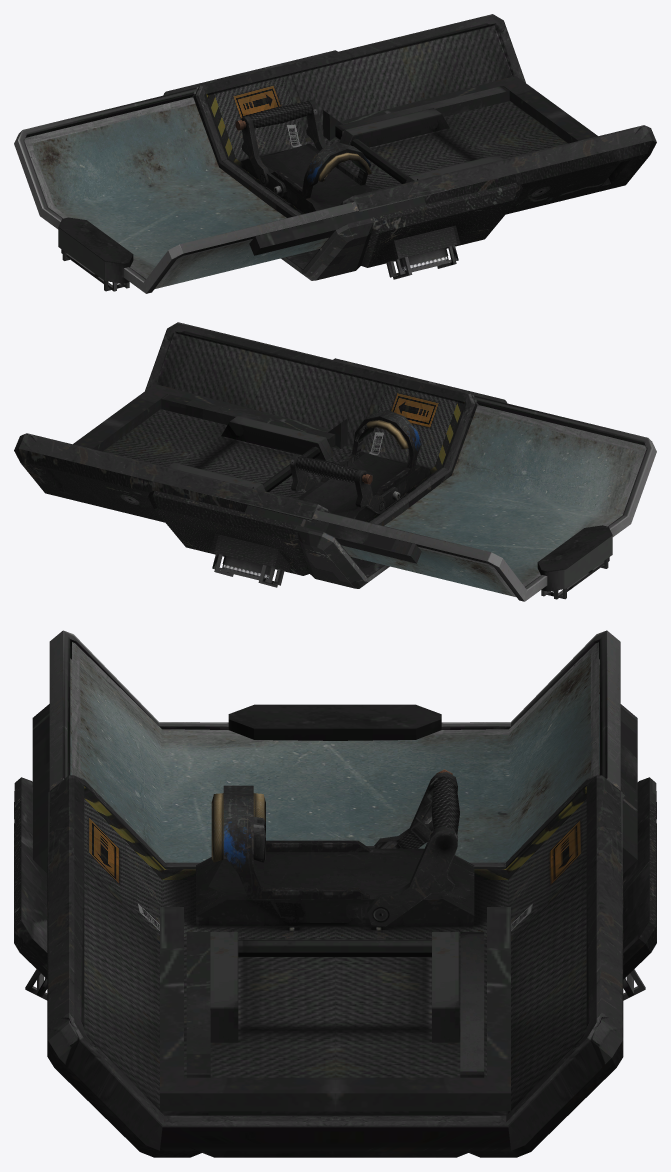
The model's file is t6_wpn_shield_stow_world_LOD0.obj.
3 renders of one model, top to bottom at view 1: azimuth 30°, elevation 25°; view 2: azimuth 150°, elevation 25°; view 3: azimuth 270°, elevation 25°, orthographic. The views are drawn at different scales.
Visible parts, largest first — view 1: mtl_t6_wpn_shield, mtl_t6_wpn_shield_glass, mtl_t6_wpn_shield_camo1, mtl_t6_wpn_shield_camo2, mtl_t6_wpn_shield_camo3, mtl_t6_wpn_shield_nodecal; view 2: mtl_t6_wpn_shield, mtl_t6_wpn_shield_glass, mtl_t6_wpn_shield_camo1, mtl_t6_wpn_shield_camo2, mtl_t6_wpn_shield_camo3, mtl_t6_wpn_shield_nodecal; view 3: mtl_t6_wpn_shield, mtl_t6_wpn_shield_glass, mtl_t6_wpn_shield_camo1, mtl_t6_wpn_shield_nodecal, mtl_t6_wpn_shield_camo3.
Part boxes in pixels (x1,y1,x2,y2): mtl_t6_wpn_shield: (14, 25, 597, 293); mtl_t6_wpn_shield_glass: (24, 97, 328, 289); mtl_t6_wpn_shield_camo1: (163, 14, 656, 280); mtl_t6_wpn_shield_camo2: (367, 154, 649, 267); mtl_t6_wpn_shield_camo3: (235, 101, 361, 193); mtl_t6_wpn_shield_nodecal: (164, 50, 337, 268); mtl_t6_wpn_shield: (73, 333, 656, 601); mtl_t6_wpn_shield_glass: (341, 405, 646, 597); mtl_t6_wpn_shield_camo1: (14, 322, 506, 588); mtl_t6_wpn_shield_camo2: (21, 462, 302, 575); mtl_t6_wpn_shield_camo3: (295, 410, 421, 499); mtl_t6_wpn_shield_nodecal: (333, 358, 505, 577); mtl_t6_wpn_shield: (25, 630, 645, 1115); mtl_t6_wpn_shield_glass: (70, 642, 599, 862); mtl_t6_wpn_shield_camo1: (14, 775, 656, 1157); mtl_t6_wpn_shield_nodecal: (21, 777, 649, 952); mtl_t6_wpn_shield_camo3: (223, 769, 459, 854).
Bounding box in the file's own units: 115 × 22.63 × 74.09.
